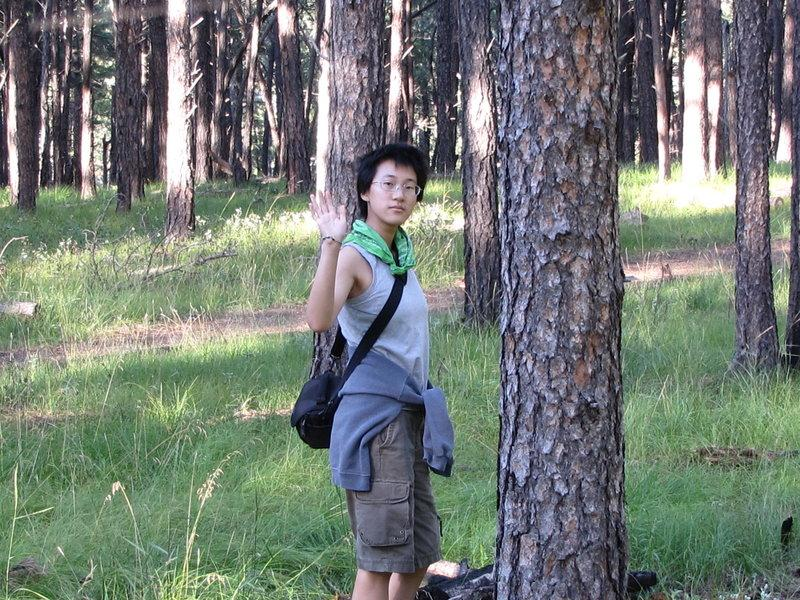person: (309, 145, 435, 600)
